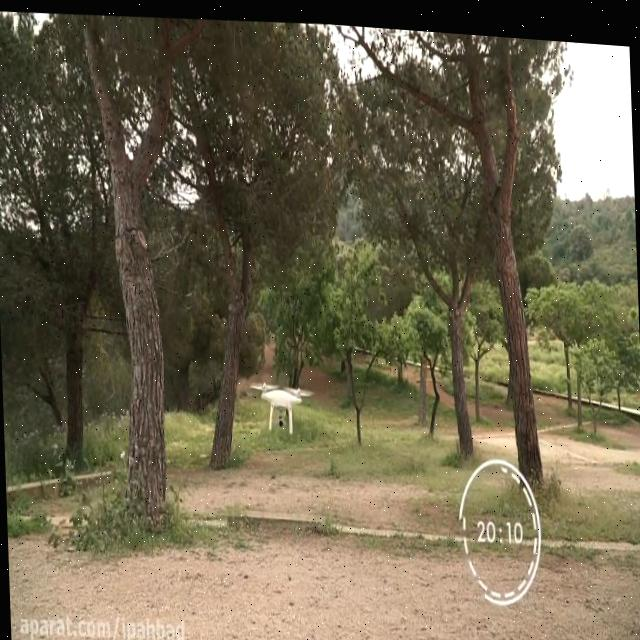drone: (247, 370, 318, 435)
